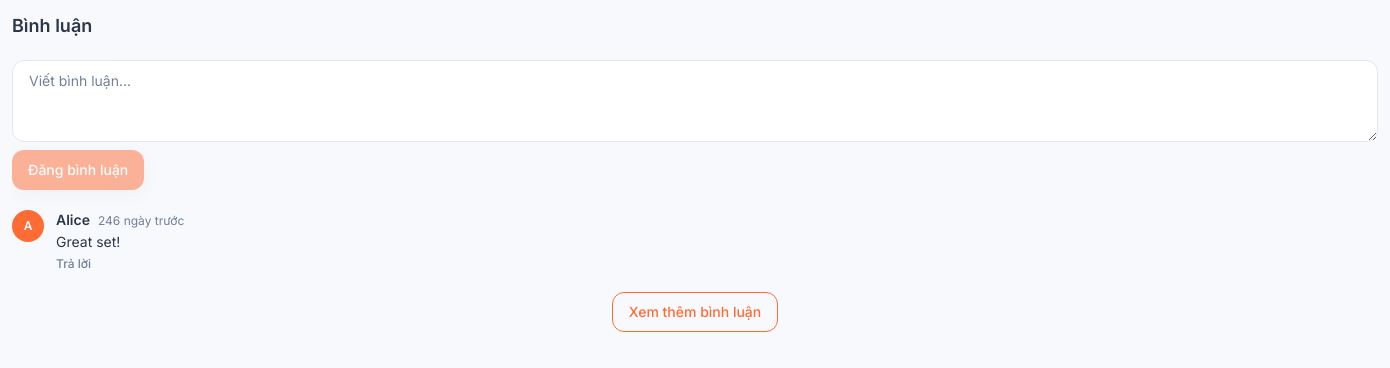
CommentSection › loads the next page and appends it when "Load more" is clicked
This screenshot has width=1390, height=368.
Click the button "Xem thêm bình luận". click: coordinates (695, 312)
box: left=612, top=292, right=778, bottom=332
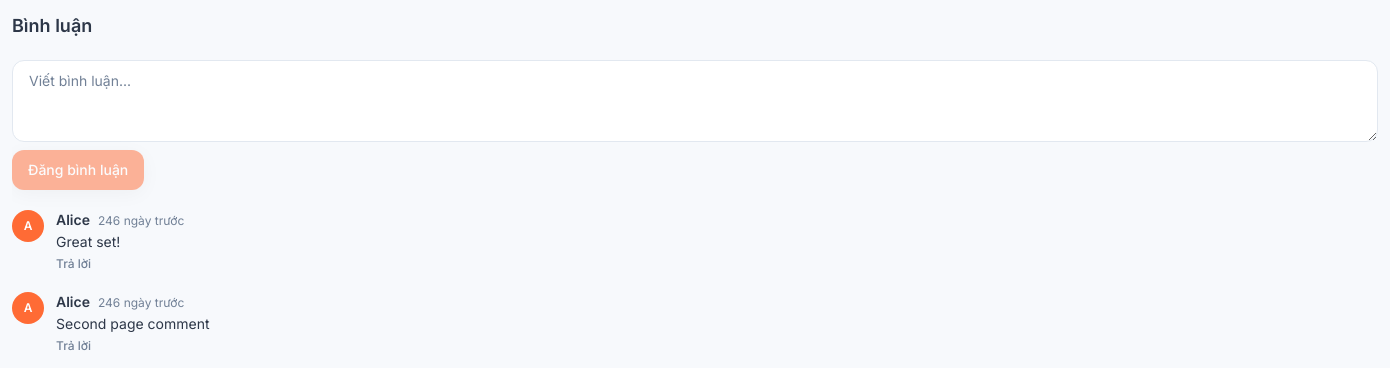
Expected: the text "Great set!" is shown, left=56, top=233, right=120, bottom=250
Result: the text "Second page comment" is shown at left=56, top=315, right=210, bottom=332
